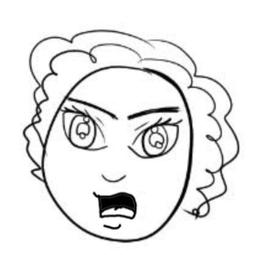eye: (60, 106, 112, 156), (126, 118, 184, 161)
frowning_eyebrow: (67, 98, 118, 121), (128, 105, 181, 117)
nose: (96, 169, 129, 184)
open_mouth: (90, 192, 145, 220)
